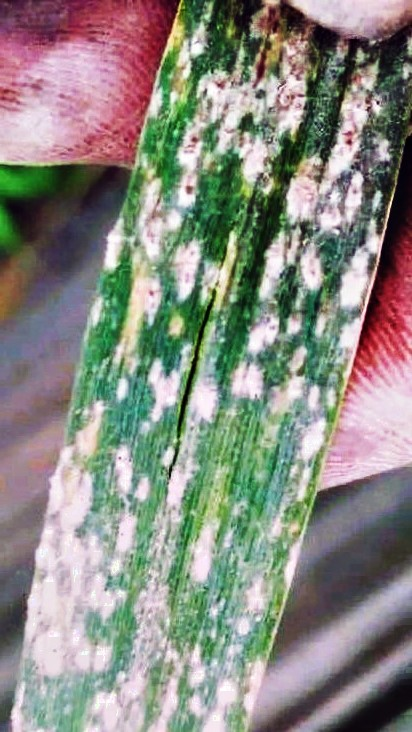Powdery Mildew: (42, 50, 396, 690)
